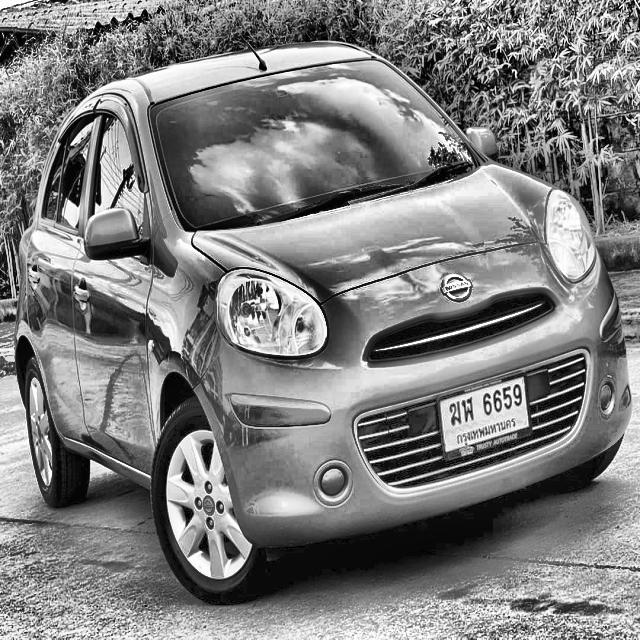license-plate: (436, 364, 536, 469)
